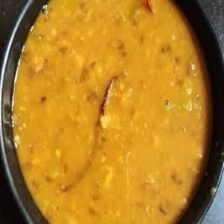dal: (12, 0, 214, 224)
